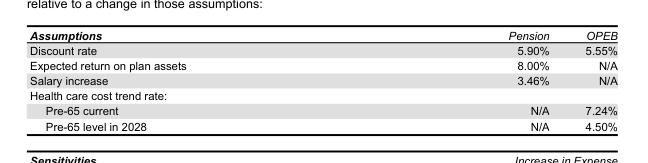table: (29, 28, 616, 132)
table column: (29, 28, 346, 132), (346, 28, 566, 132), (566, 28, 616, 132)
table column header: (29, 28, 616, 42)
table projected row header: (29, 87, 616, 102)
table row: (29, 102, 616, 118), (29, 42, 616, 57), (29, 57, 616, 72), (29, 72, 616, 87), (29, 87, 616, 102), (29, 28, 616, 42), (29, 118, 616, 132)
